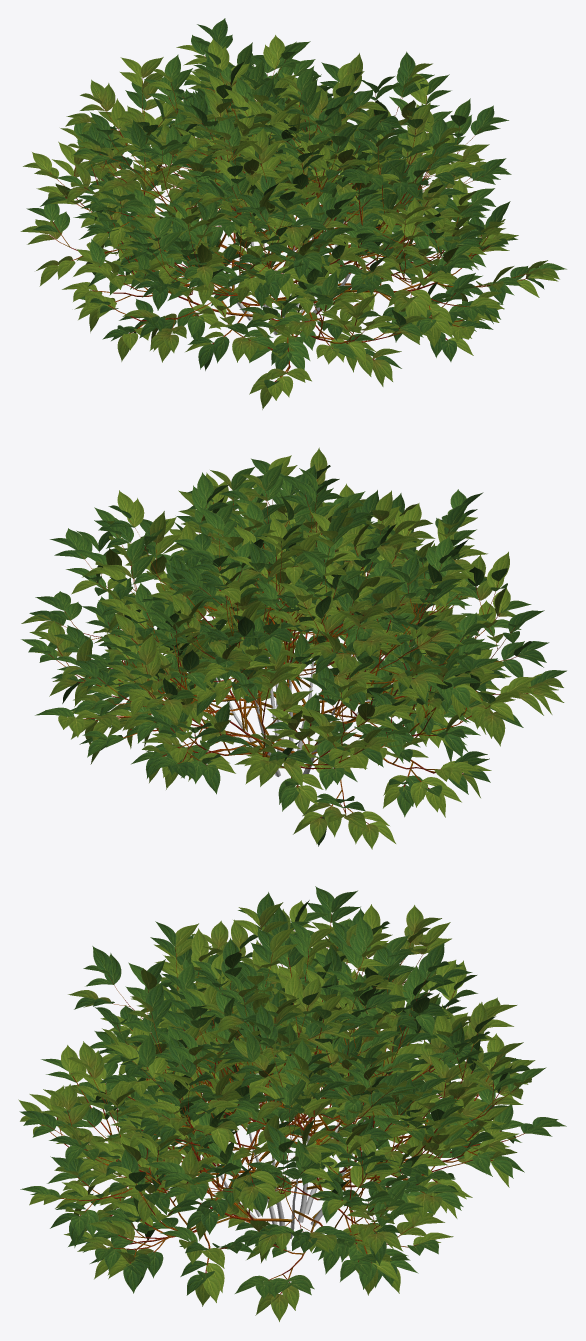
File: Cornus sericea Kelsey002_LOW.FBX
The picture shows the model from 3 angles, top to bottom: view 1: azimuth 30°, elevation 25°; view 2: azimuth 150°, elevation 25°; view 3: azimuth 270°, elevation 25°; orthographic projection. The views are drawn at different scales.
Visible parts, largest first — view 1: Cornus sericea Kelsey002_LOW; view 2: Cornus sericea Kelsey002_LOW; view 3: Cornus sericea Kelsey002_LOW.
Boxes of the visible parts, bbox=[...] form: Cornus sericea Kelsey002_LOW: bbox=[20, 18, 566, 409]; Cornus sericea Kelsey002_LOW: bbox=[21, 447, 566, 849]; Cornus sericea Kelsey002_LOW: bbox=[18, 886, 566, 1321].
Size of the model in its own units: 1296 by 749 by 1245.
